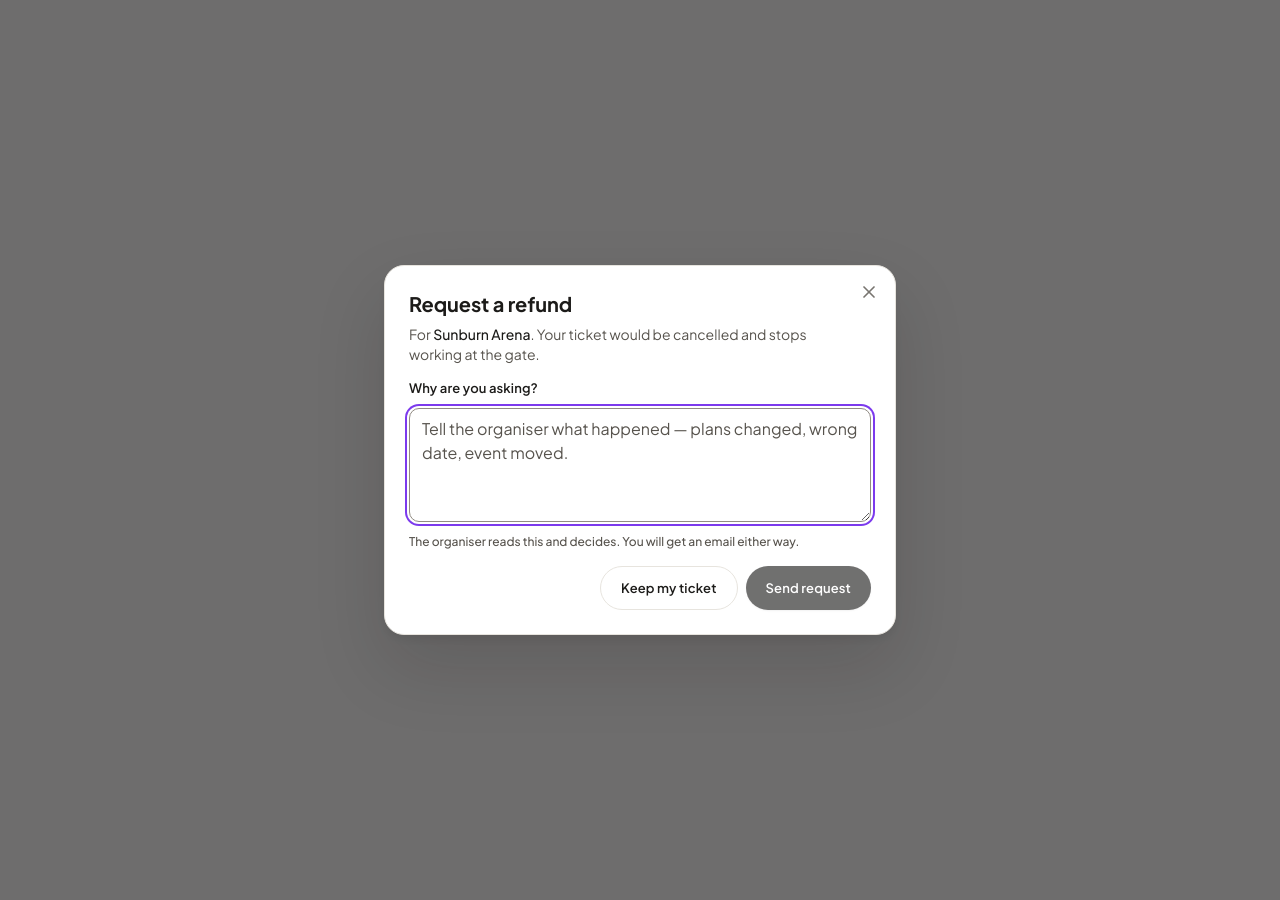
Scenario: RefundRequestDialog › explains an already-open request instead of reporting a generic failure
Type "Plans changed entirely" into the text box labelled "Why are you asking?" at [640, 465], box [409,408,871,522]
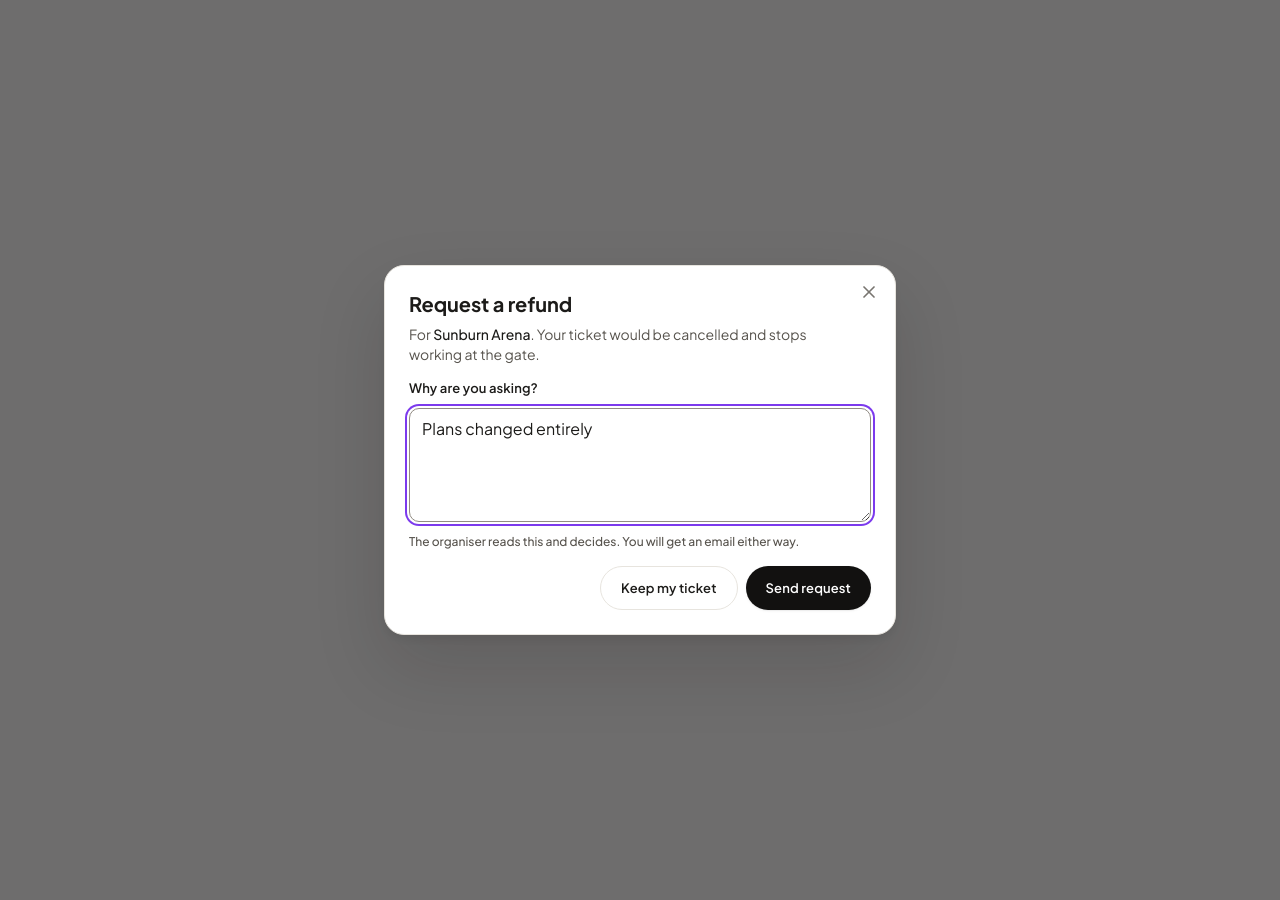
Click the button "Send request" at [808, 588], box [746,566,871,610]
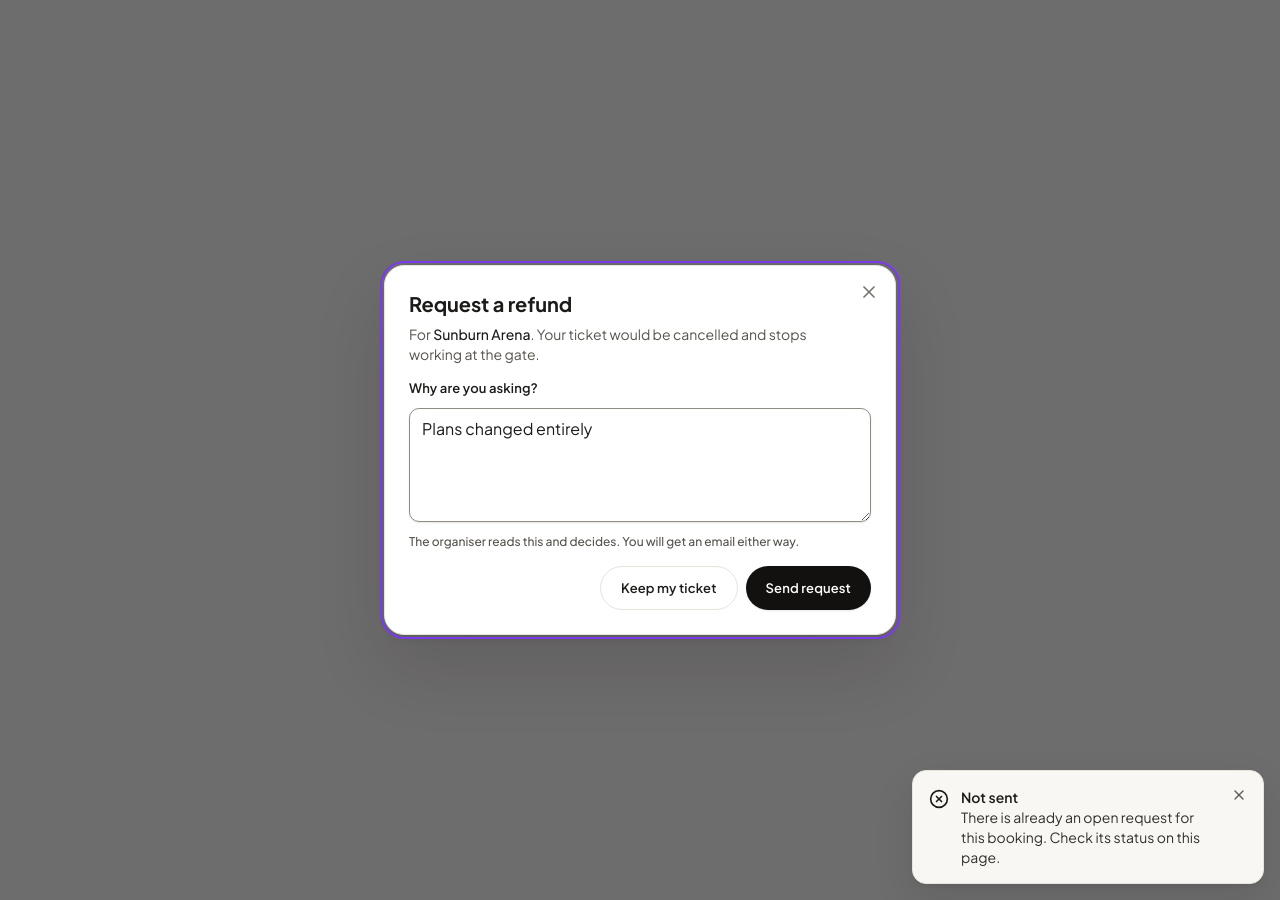
Result: the text "already an open request" is shown at [961,808,1200,866]
